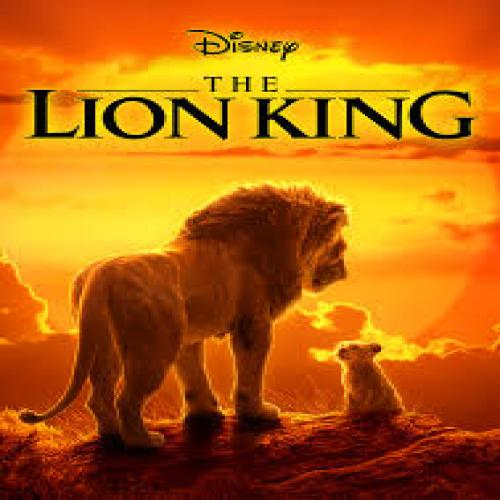lion-endangered: (42, 192, 345, 432)
